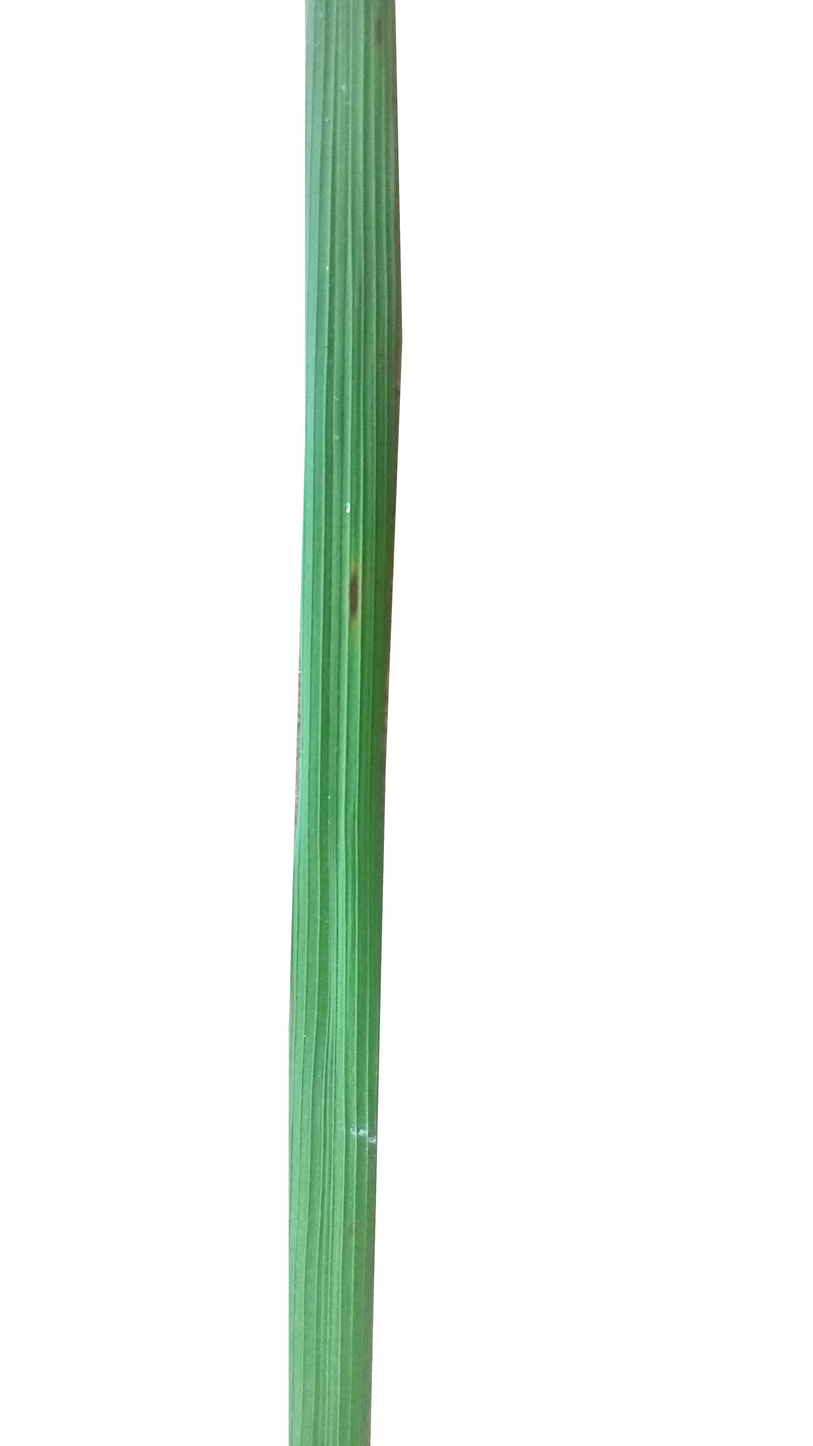Brown spot: (323, 560, 389, 633)
